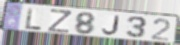2: (150, 18, 172, 43)
3: (125, 16, 149, 39)
8: (73, 12, 96, 36)
J: (101, 15, 121, 36)
L: (24, 6, 43, 31)
Z: (47, 9, 73, 35)
